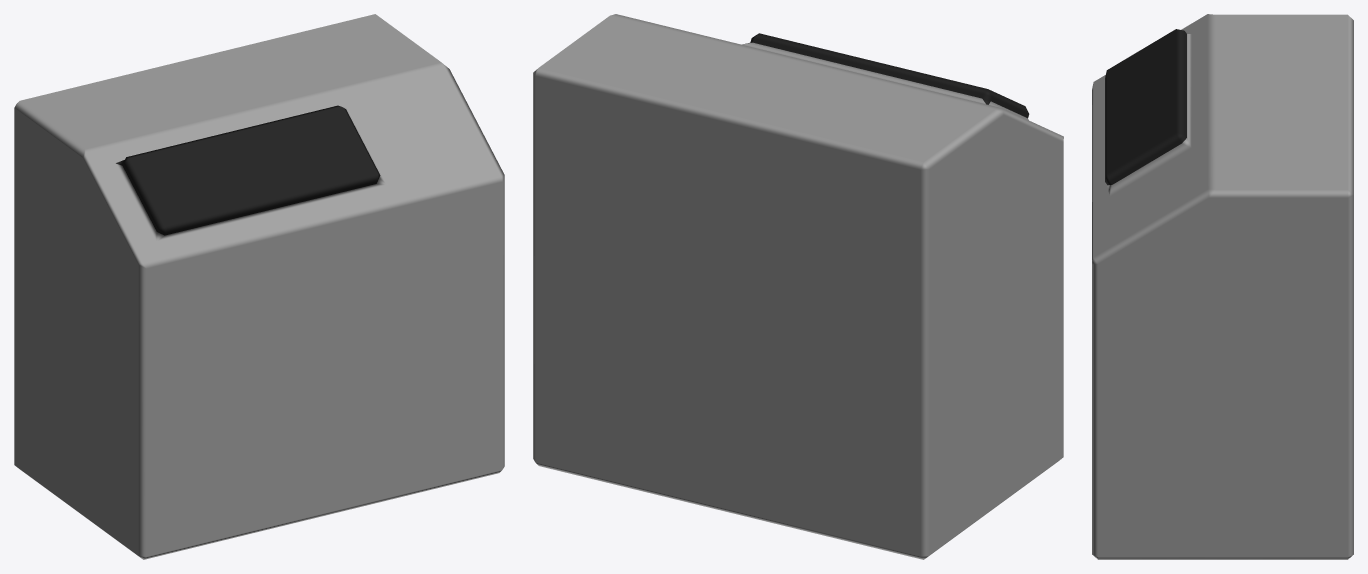
File: Conveyor_Control2.fbx
3 views of the same model, side by side, from view 1: azimuth 30°, elevation 25°; view 2: azimuth 150°, elevation 25°; view 3: azimuth 270°, elevation 25° (orthographic). The views are drawn at different scales.
Parts seen in each view (by area): view 1: Cube.002; view 2: Cube.002; view 3: Cube.002.
Boxes of the visible parts, x1,y1,x2,y2 form: Cube.002: (14,14,504,559); Cube.002: (533,14,1063,559); Cube.002: (1092,14,1353,559).
Bounding box in the file's own units: 104 × 100 × 64.06.
